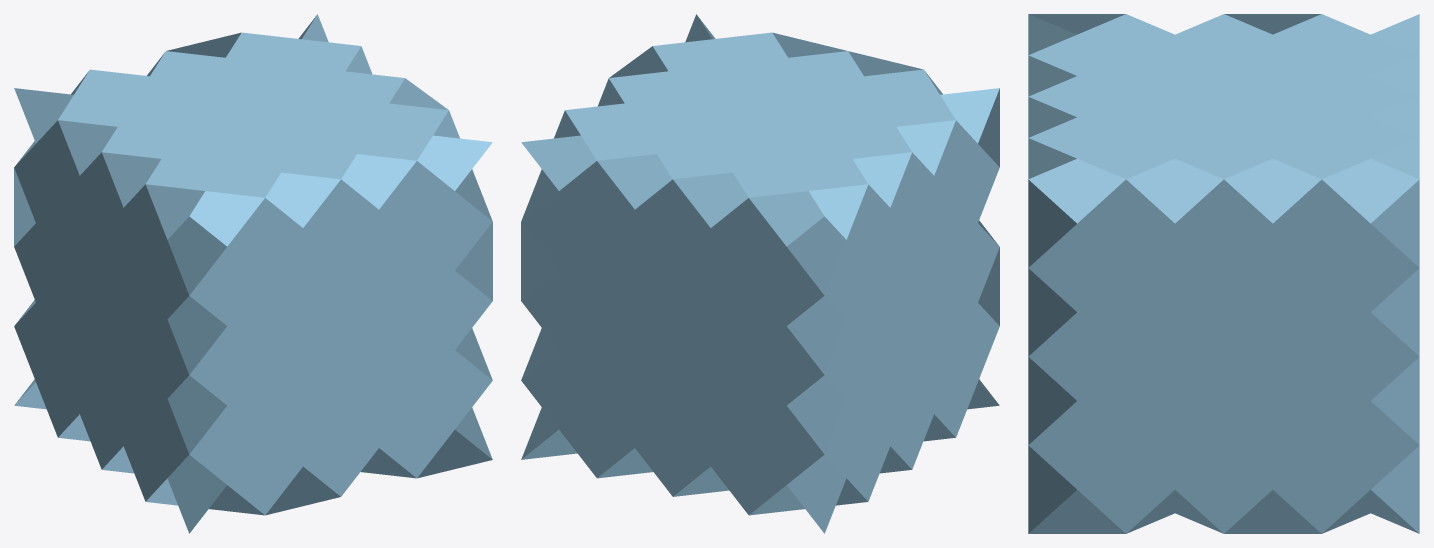
Rendered from WaterCube.fbx.
3 renders of one model, left to right at view 1: azimuth 30°, elevation 25°; view 2: azimuth 150°, elevation 25°; view 3: azimuth 270°, elevation 25°, orthographic. The views are drawn at different scales.
Visible parts, largest first — view 1: Cube; view 2: Cube; view 3: Cube.
Boxes of the visible parts, x1,y1,x2,y2 form: Cube: (14, 14, 492, 533); Cube: (521, 14, 999, 533); Cube: (1028, 14, 1419, 533).
Size of the model in its own units: 100 by 100 by 100.
